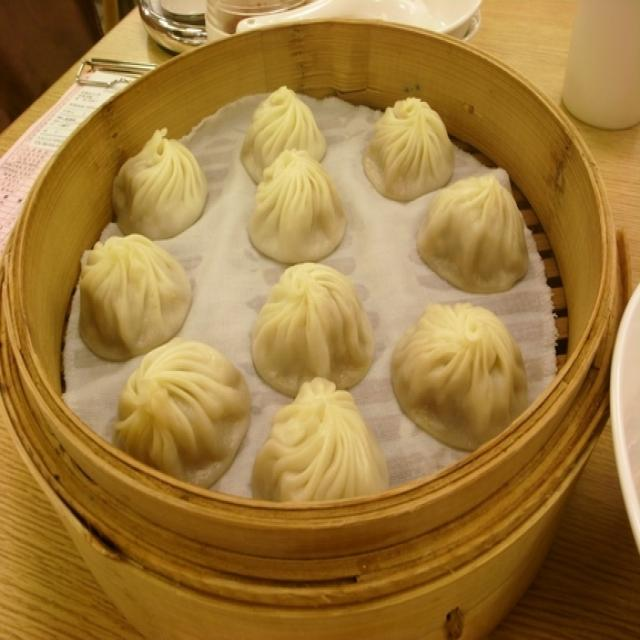带馅早点: (58, 53, 574, 546)
